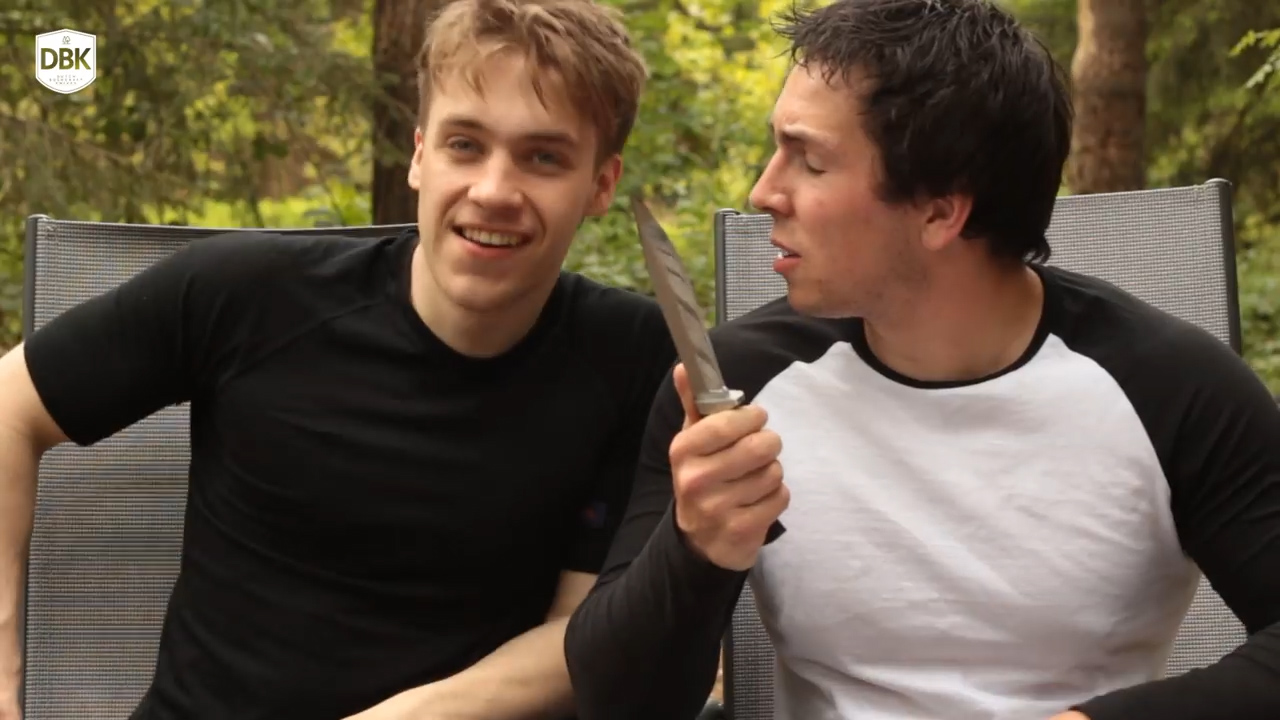knife: (625, 182, 798, 514)
